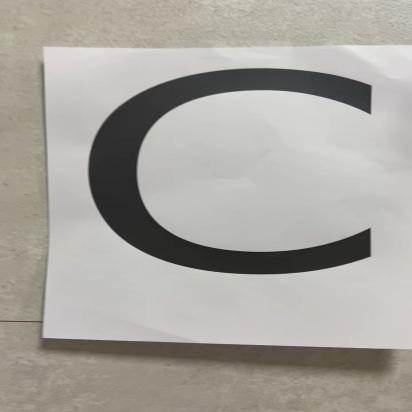seat: (33, 44, 412, 338)
